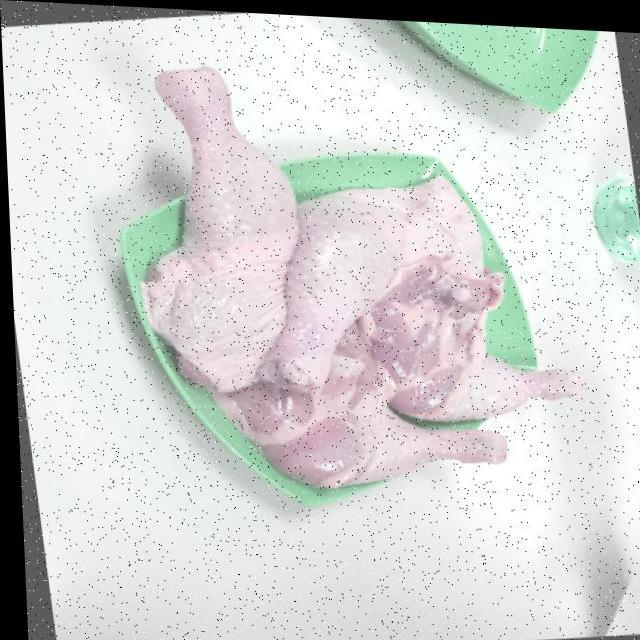quater: (142, 59, 306, 383), (236, 324, 504, 482), (279, 175, 450, 384), (383, 294, 585, 418)
